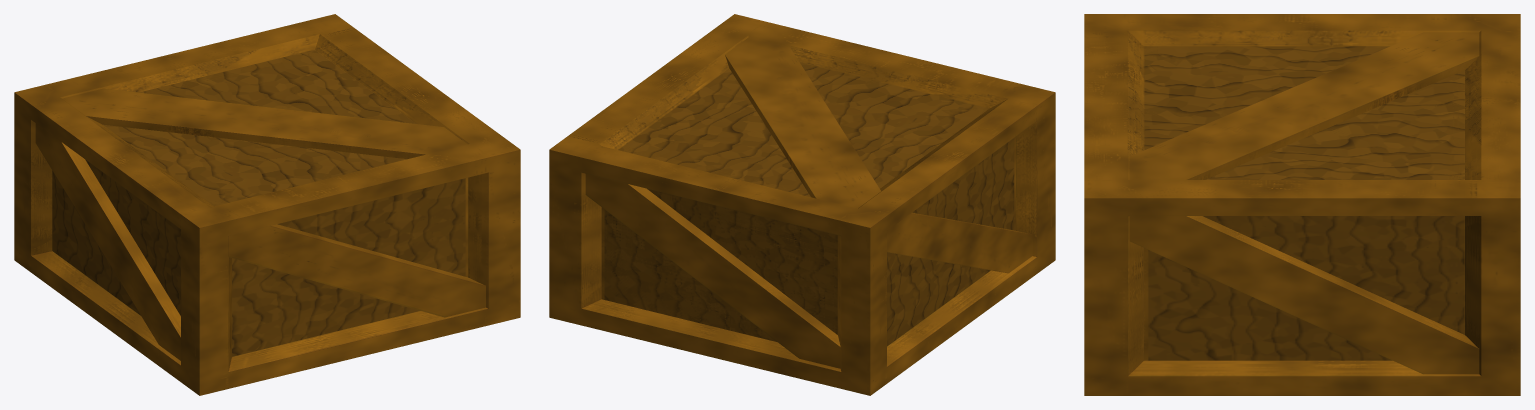
File: WideBox.fbx
3 views of the same model, side by side, from view 1: azimuth 30°, elevation 25°; view 2: azimuth 150°, elevation 25°; view 3: azimuth 270°, elevation 25° (orthographic). The views are drawn at different scales.
Parts seen in each view (by area): view 1: WideBox; view 2: WideBox; view 3: WideBox.
Boxes of the visible parts, x1,y1,x2,y2 form: WideBox: (14, 14, 520, 395); WideBox: (549, 14, 1055, 395); WideBox: (1084, 14, 1520, 395).
Size of the model in its own units: 440 by 220 by 440.
